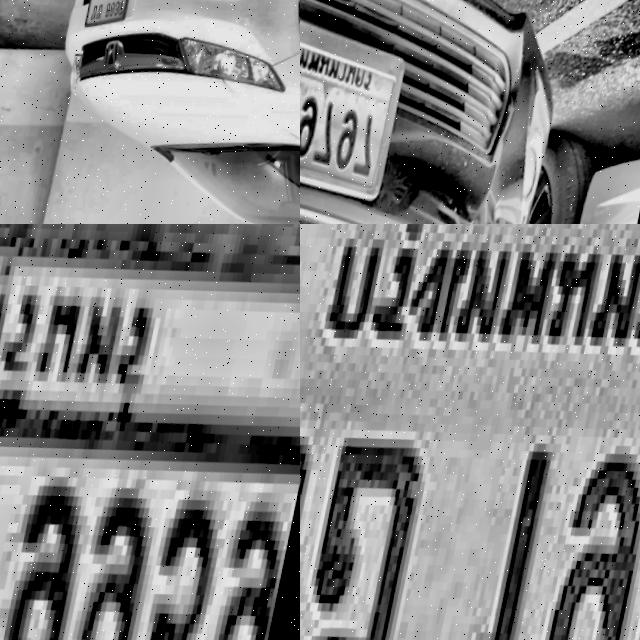license-plate: (300, 224, 640, 640), (0, 224, 300, 640), (300, 0, 426, 224), (75, 0, 145, 40)
